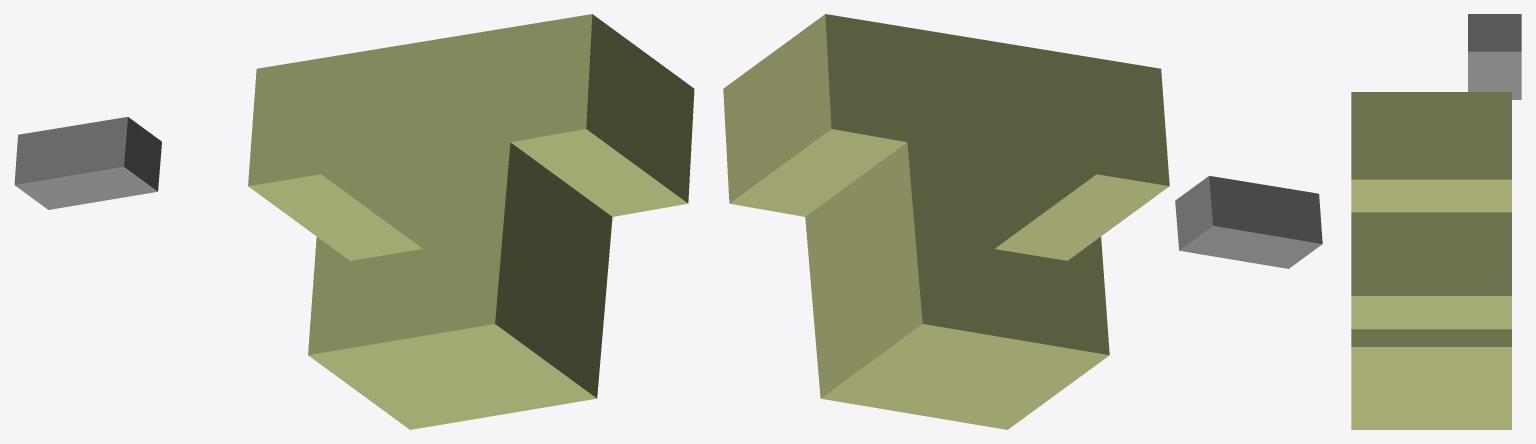
The picture shows the model from 3 angles, left to right: view 1: azimuth 30°, elevation 25°; view 2: azimuth 150°, elevation 25°; view 3: azimuth 270°, elevation 25°; orthographic projection. The views are drawn at different scales.
Parts seen in each view (by area): view 1: 0_1_3_2_1_1_2_2; view 2: 0_1_3_2_1_1_2_2; view 3: 0_1_3_2_1_1_2_2.
Boxes of the visible parts, x1,y1,x2,y2 form: 0_1_3_2_1_1_2_2: (14, 14, 694, 429); 0_1_3_2_1_1_2_2: (723, 14, 1322, 429); 0_1_3_2_1_1_2_2: (1351, 14, 1521, 429).
Size of the model in its own units: 29.09 by 15.24 by 9.55.
